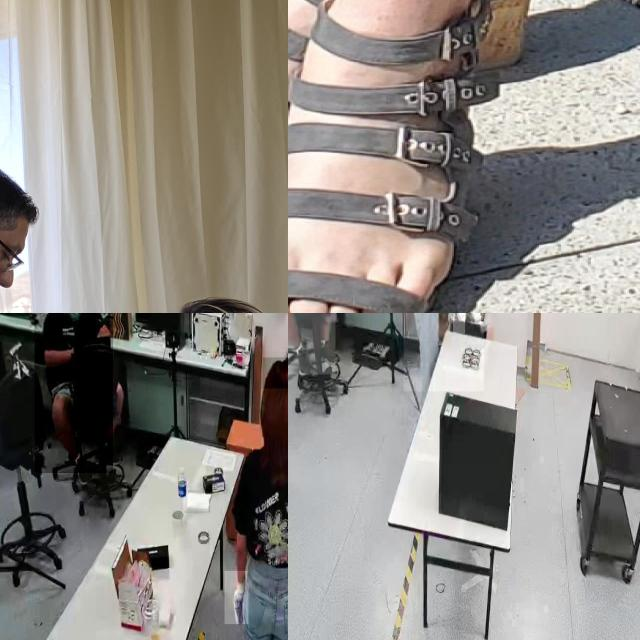Sandals: (288, 0, 477, 313)
face_mask: (57, 313, 84, 323)
hand_glove: (225, 571, 249, 625), (452, 313, 465, 334), (470, 313, 483, 325)
head_nohelmet: (262, 357, 288, 389)
person: (226, 351, 288, 640), (34, 313, 113, 473), (403, 313, 484, 392), (288, 313, 335, 375)
shoes: (293, 342, 311, 378), (318, 337, 336, 368)
